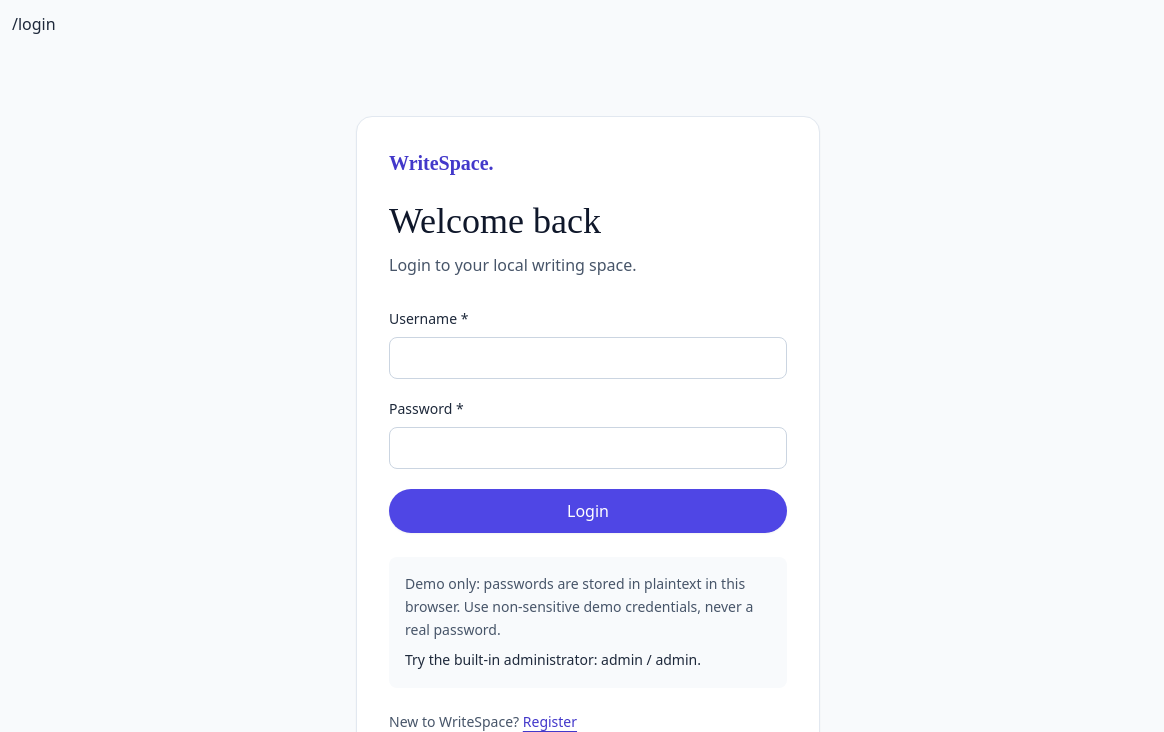
LoginPage › blocks a missing Password with an associated inline error
Type "admin" into the field labelled "Username *" at (588,358), box [389,337,787,379]
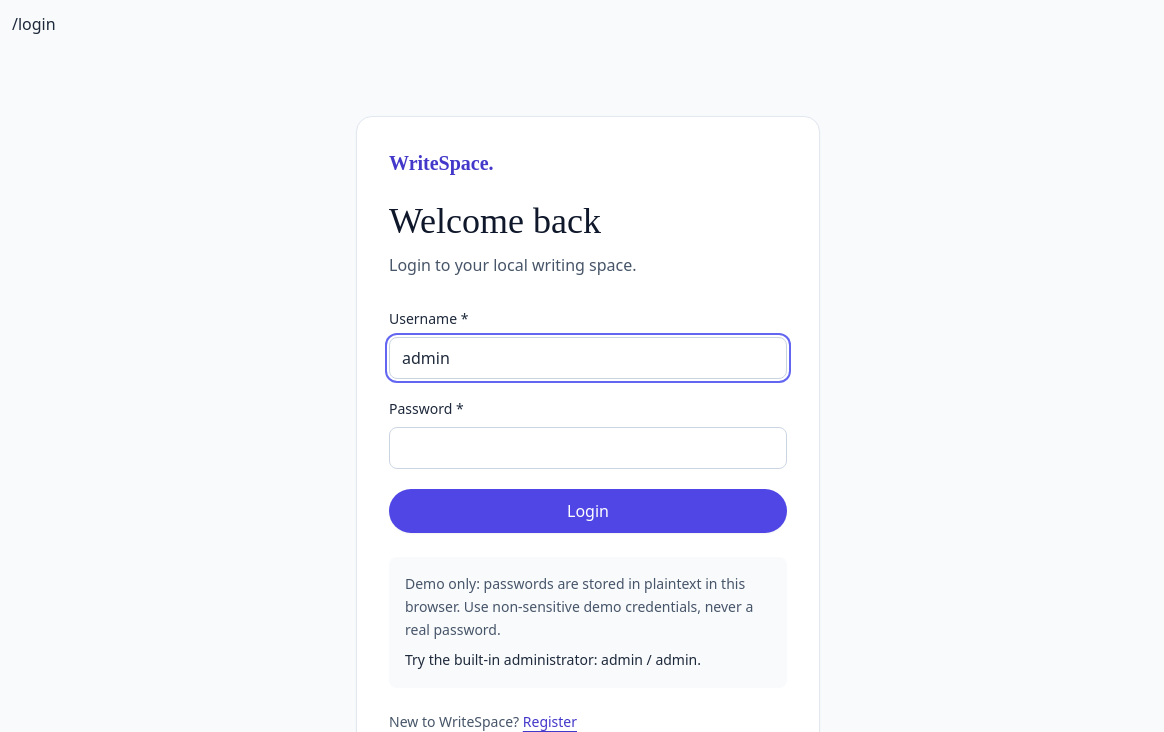
Click the button "Login" at (588,511), box [389,489,787,533]
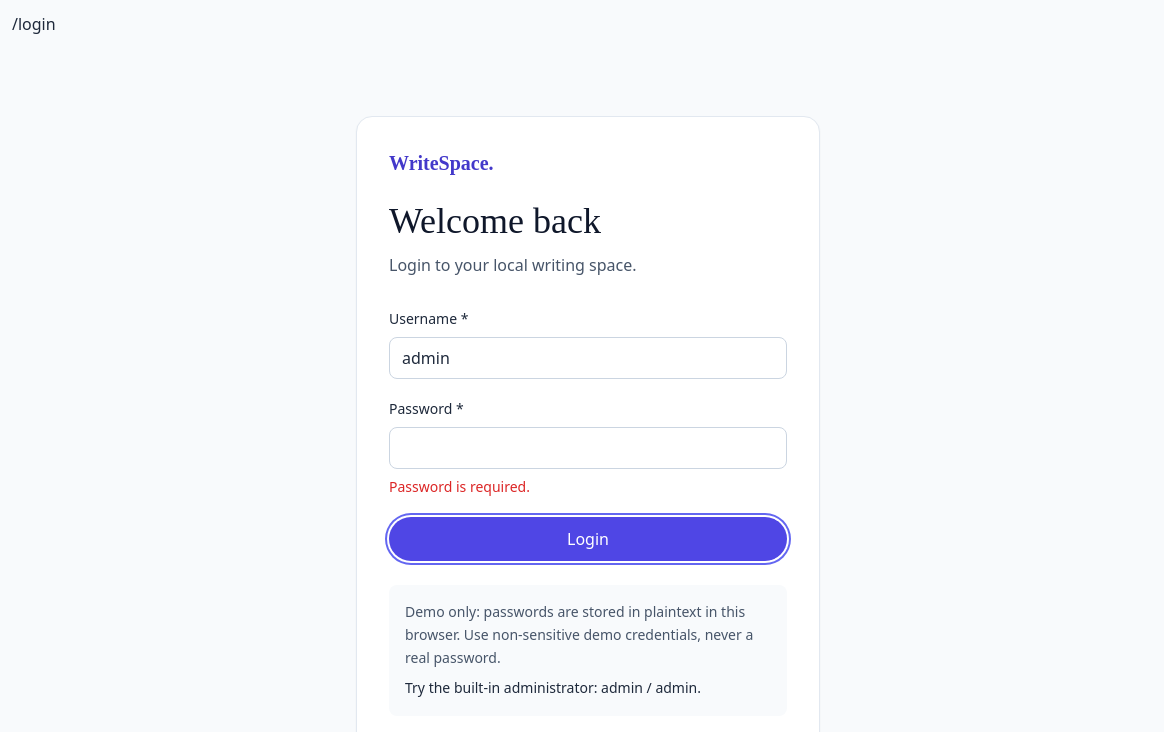
Expected: the text named "Current route" reads "/login", [12,13,56,35]
Result: the message reads "Password is required." at [389,477,530,496]
